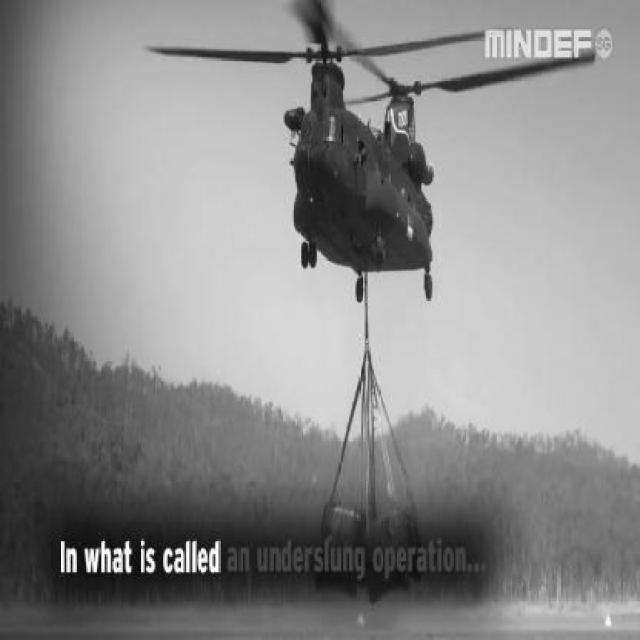Helicopter: (146, 1, 597, 303)
